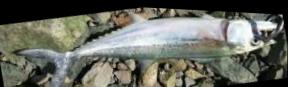fish: (16, 11, 278, 87)
